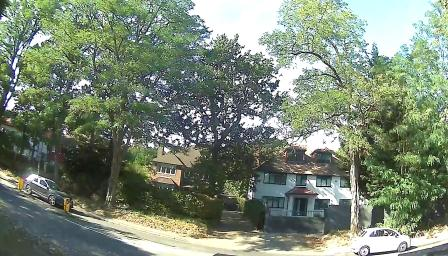Cars: (24, 178, 74, 210), (356, 227, 410, 254)
